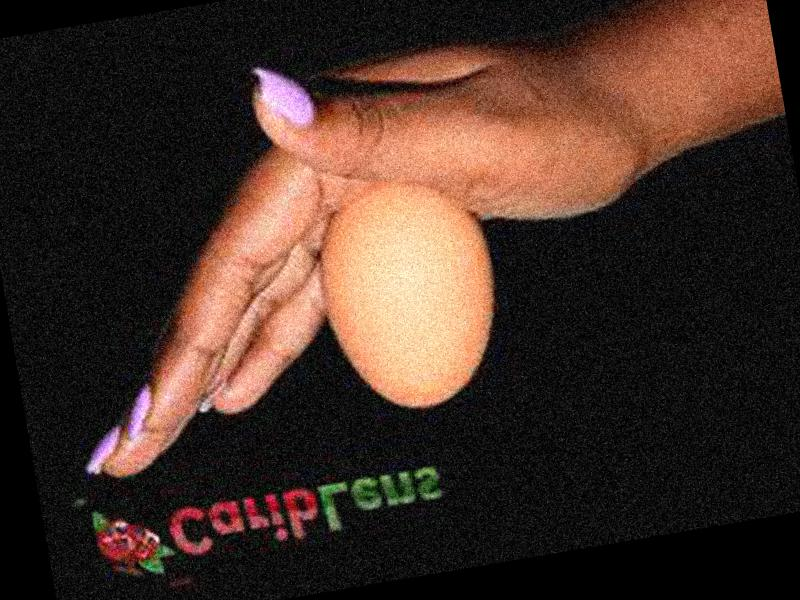Eggs: (305, 170, 513, 422)
